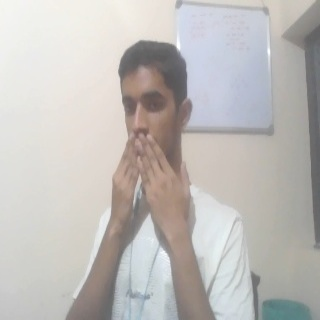Thank You: (101, 132, 195, 255)
